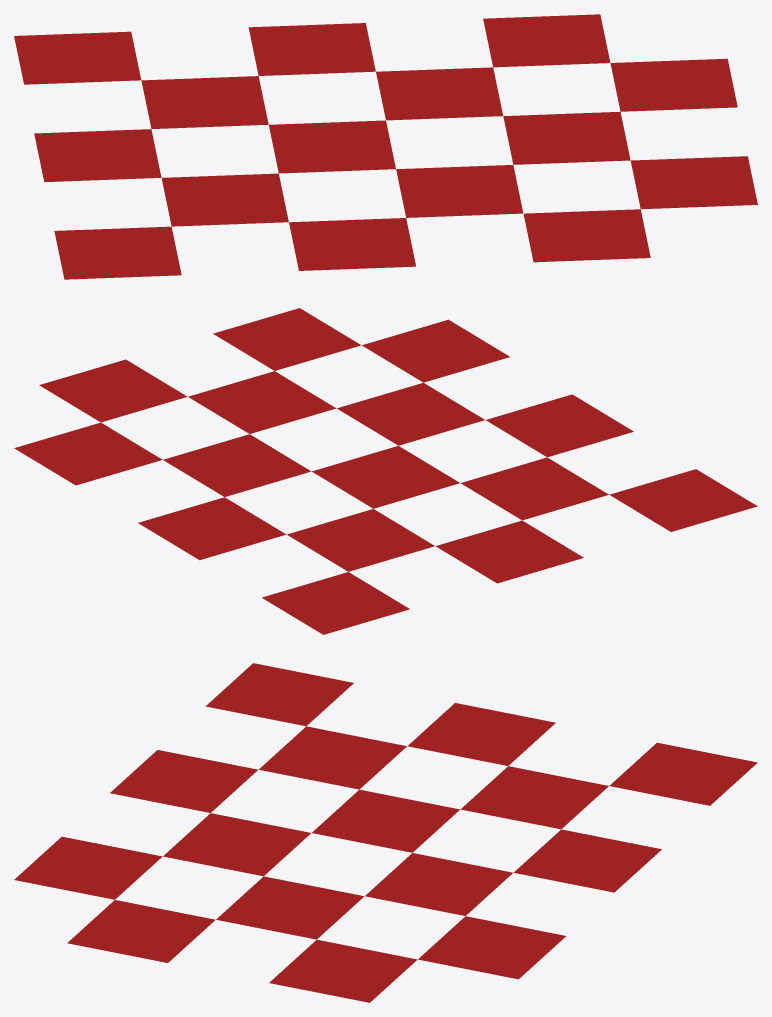
File: blanketRed.obj
3 views of the same model, one above another, from view 1: azimuth 30°, elevation 25°; view 2: azimuth 150°, elevation 25°; view 3: azimuth 270°, elevation 25° (orthographic). The views are drawn at different scales.
Parts seen in each view (by area): view 1: Plane005; view 2: Plane005; view 3: Plane005.
Part boxes in pixels (<box>): Plane005: <box>14,14,757,279</box>; Plane005: <box>14,308,757,634</box>; Plane005: <box>14,663,757,1002</box>.
Size of the model in its own units: 236 by 0 by 219.
